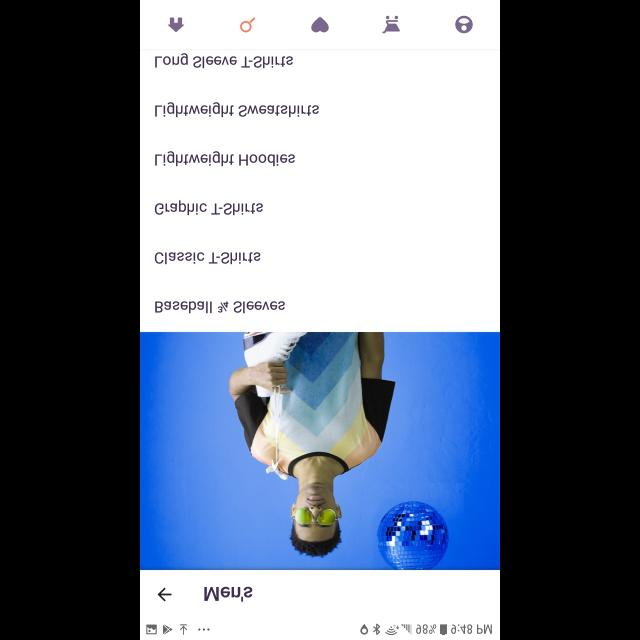icon: (455, 16, 473, 34), (383, 16, 401, 34), (311, 17, 329, 33), (240, 17, 256, 33), (168, 16, 184, 32), (158, 587, 172, 601)
image: (140, 332, 500, 570)
text: (155, 102, 319, 118), (155, 151, 295, 167), (155, 52, 293, 68), (155, 300, 285, 314), (155, 200, 263, 216), (155, 252, 261, 264), (205, 586, 253, 602)
uppertaskbar: (140, 622, 500, 640)
